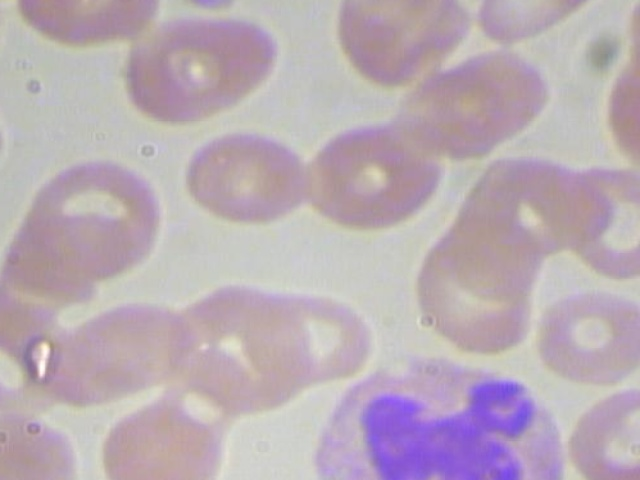Platelets: (178, 0, 242, 18)
RBC: (114, 9, 290, 137), (18, 149, 171, 276), (405, 221, 544, 357), (299, 121, 444, 235), (229, 283, 380, 390), (169, 119, 315, 228), (527, 281, 640, 393), (327, 0, 469, 88), (553, 154, 640, 284), (91, 401, 225, 480), (564, 384, 640, 480), (600, 43, 640, 171), (0, 0, 3, 69)
WBC: (301, 350, 575, 480)
